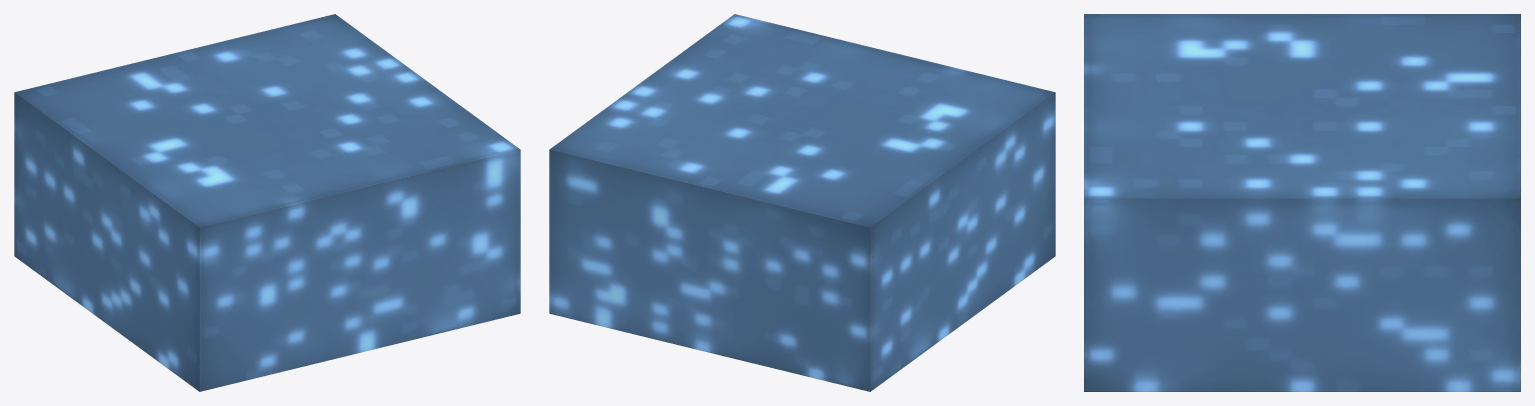
Rendered from Light_bake_3D.glb.
The picture shows the model from 3 angles, left to right: view 1: azimuth 30°, elevation 25°; view 2: azimuth 150°, elevation 25°; view 3: azimuth 270°, elevation 25°; orthographic projection. The views are drawn at different scales.
Visible parts, largest first — view 1: chara.002; view 2: chara.002; view 3: chara.002.
Boxes of the visible parts, bbox=[...] form: chara.002: bbox=[14, 14, 520, 391]; chara.002: bbox=[549, 14, 1055, 391]; chara.002: bbox=[1084, 14, 1520, 391].
Bounding box in the file's own units: 10.39 × 5.07 × 10.39.
Materials: 1 (1 with a texture image).
